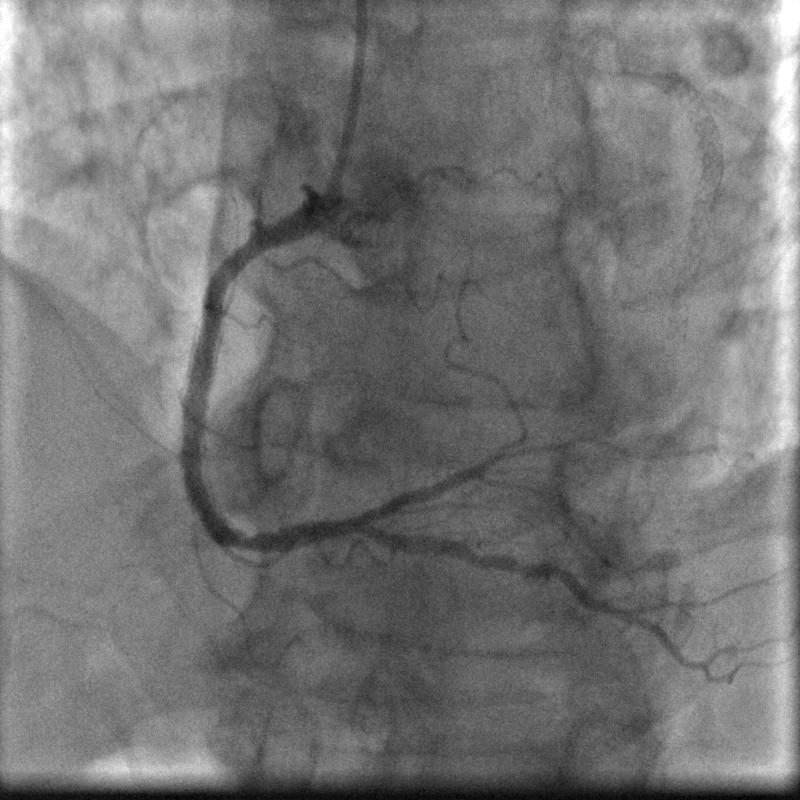Stenosis: (222, 234, 262, 283)
